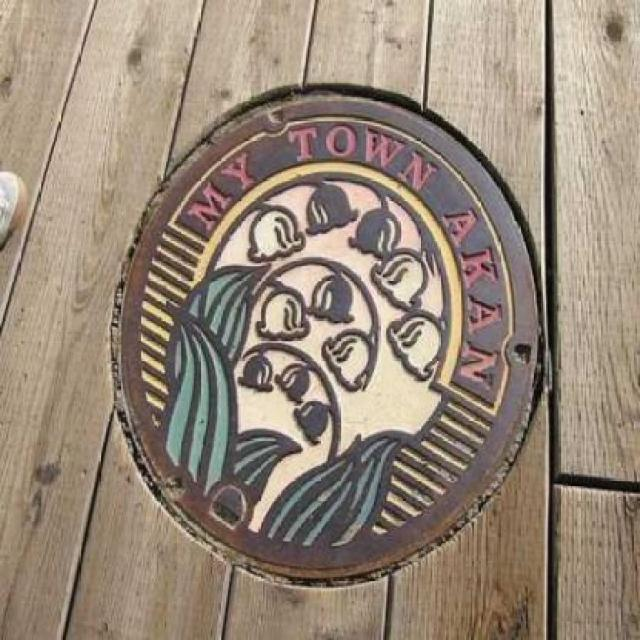Manhole: (102, 78, 573, 600)
